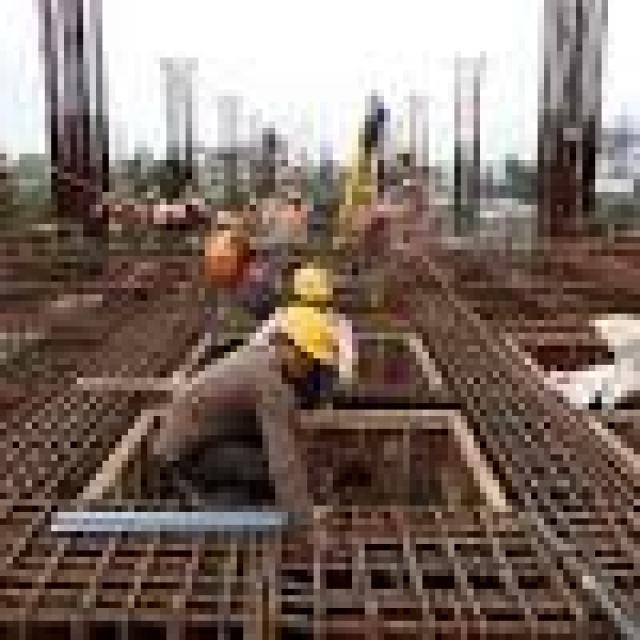Safety-Helmet: (250, 294, 364, 390)
